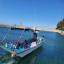fishing boat: (0, 23, 47, 60)
